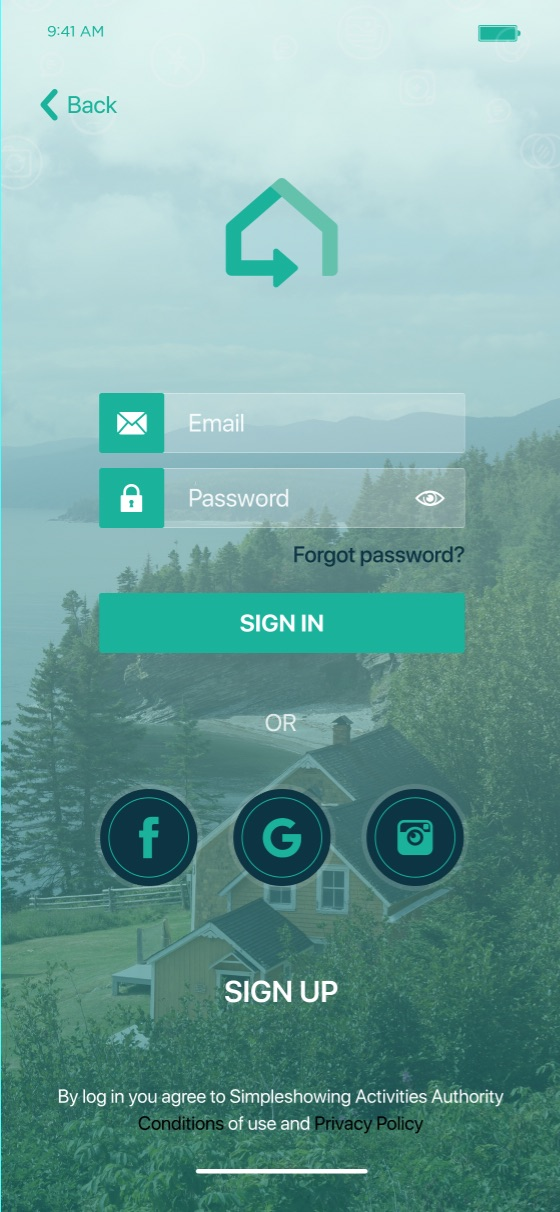BackgroundImage: (1, 1, 560, 1212)
EditText: (100, 393, 466, 454), (100, 468, 466, 529)
Icon: (100, 789, 198, 887), (233, 789, 331, 887), (117, 412, 148, 436), (121, 484, 144, 513), (41, 89, 59, 122), (415, 490, 445, 507)
Image: (226, 178, 339, 289), (366, 789, 464, 887)
Text: (59, 1088, 505, 1134), (294, 546, 465, 568), (225, 980, 339, 1004), (190, 489, 289, 508), (189, 414, 245, 433), (69, 97, 119, 115), (266, 714, 298, 733)
TextButton: (100, 593, 465, 654)
UpperTaskBar: (48, 24, 522, 44)
